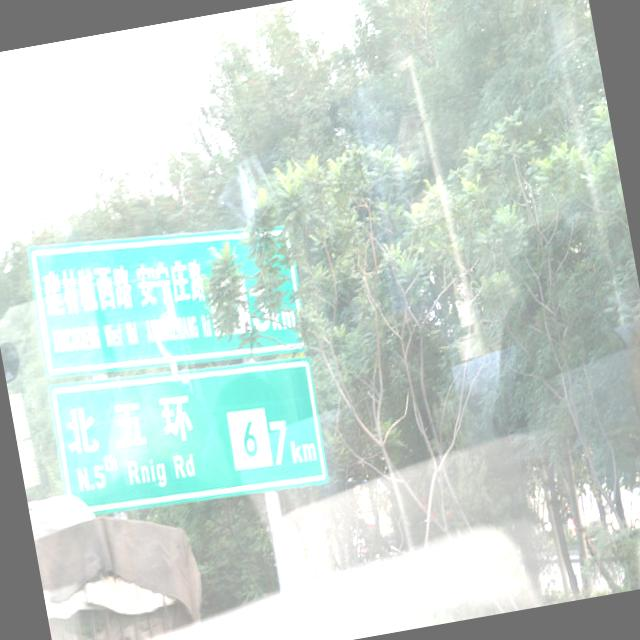Vehicle: (602, 493, 640, 534)
